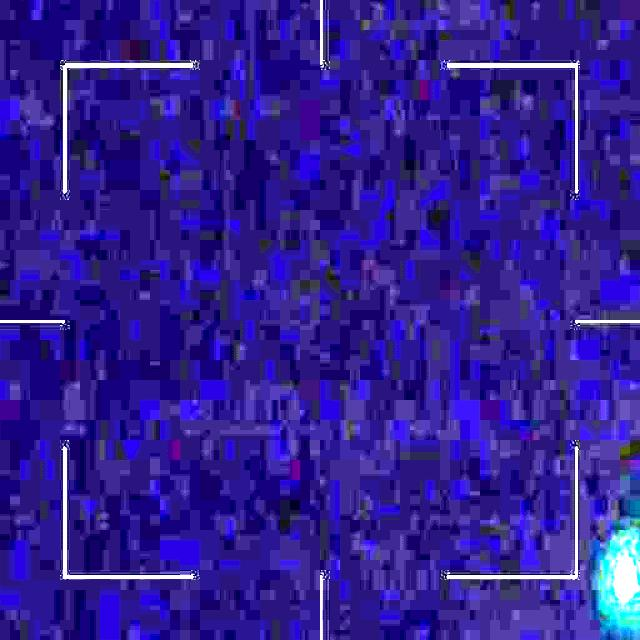bird: (608, 536, 640, 620)
